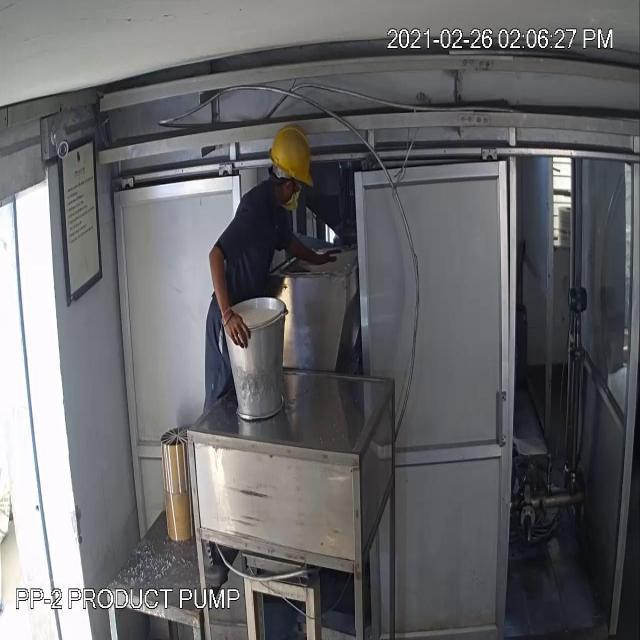hat: (266, 124, 316, 188)
